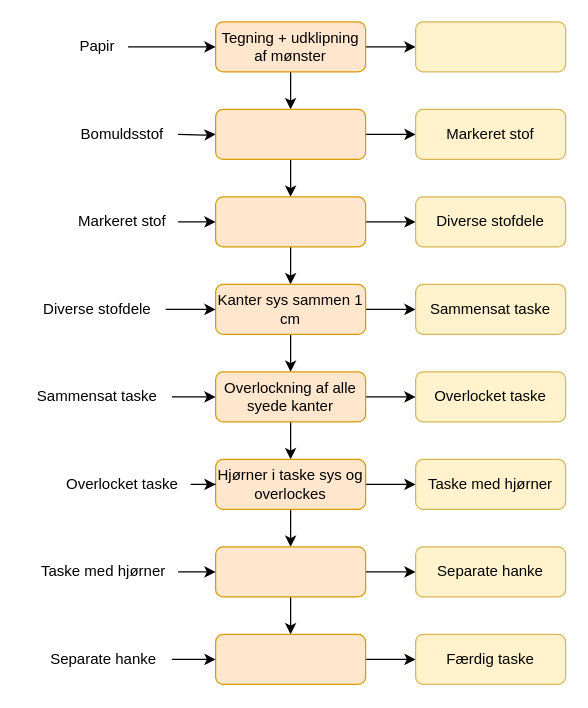
This 588x708 diagram has some shape labels left out. Each missing label, with the centre of its shape:
Færdigt mønster: (490,46)
Hanke sys på toppen af tasken og kanten sys stabil: (290,658)
Overføring af mønster: (290,133)
Strygning og syning af hanke: (290,571)
Udklipning af markeret stof: (290,221)
